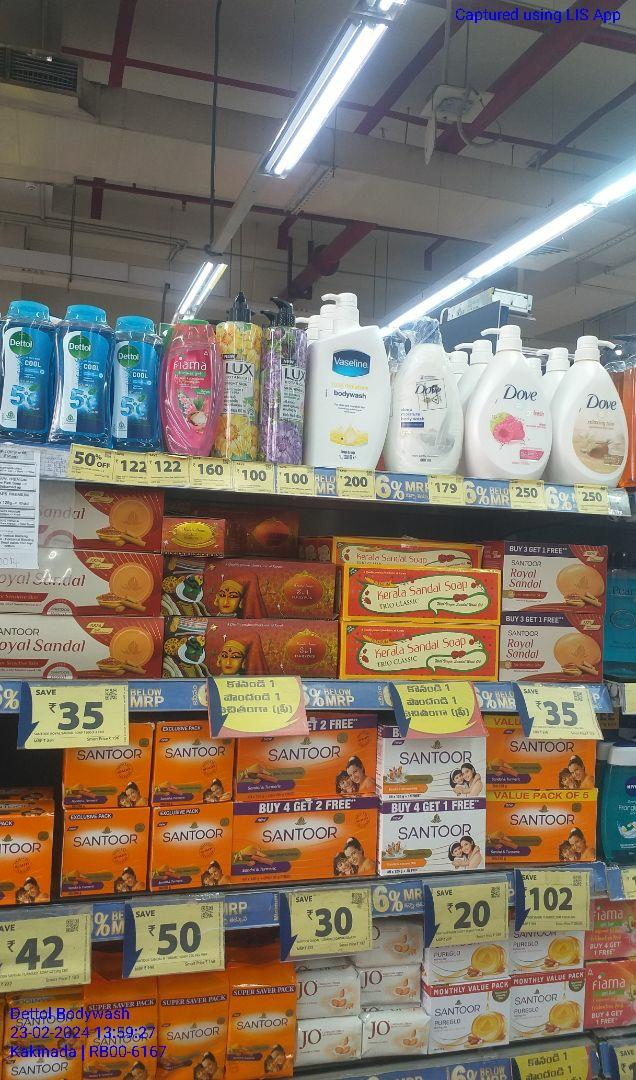Dettol_Bodywash_Cool: (53, 304, 114, 444), (0, 297, 54, 444), (116, 314, 160, 450)
Fiama_Shower_Gel_Patchouli_and_Macadamia_250ML: (166, 320, 216, 456)
